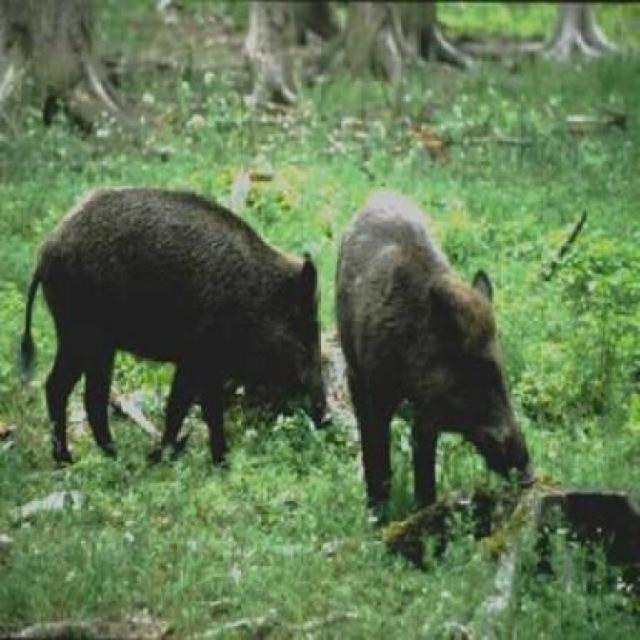pig: (6, 186, 341, 485), (332, 171, 548, 519)
